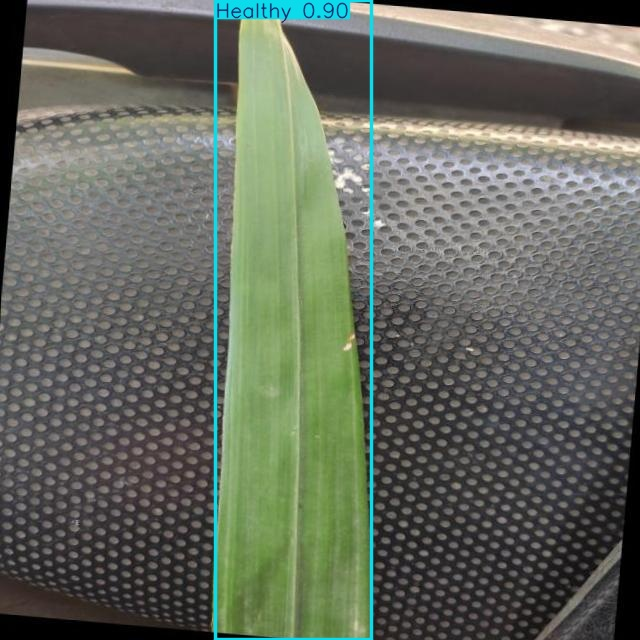Healthy: (215, 0, 371, 639)
